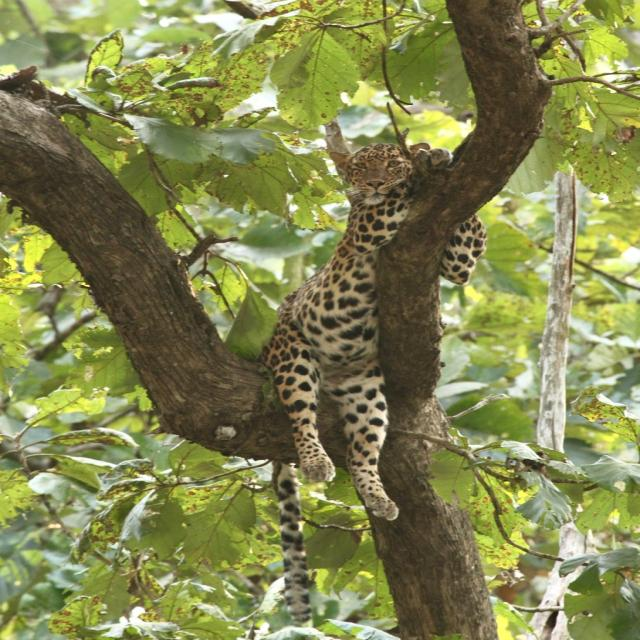Leopard: (266, 139, 488, 531)
